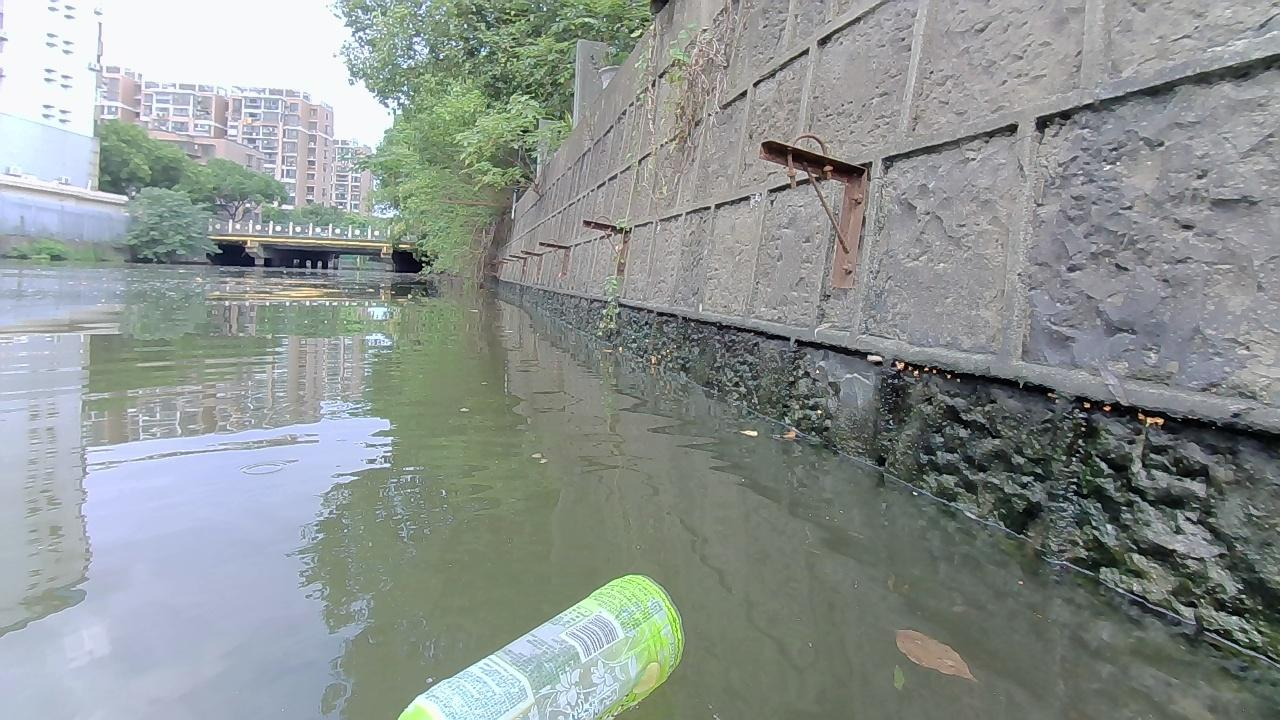bottle: (396, 570, 685, 719)
